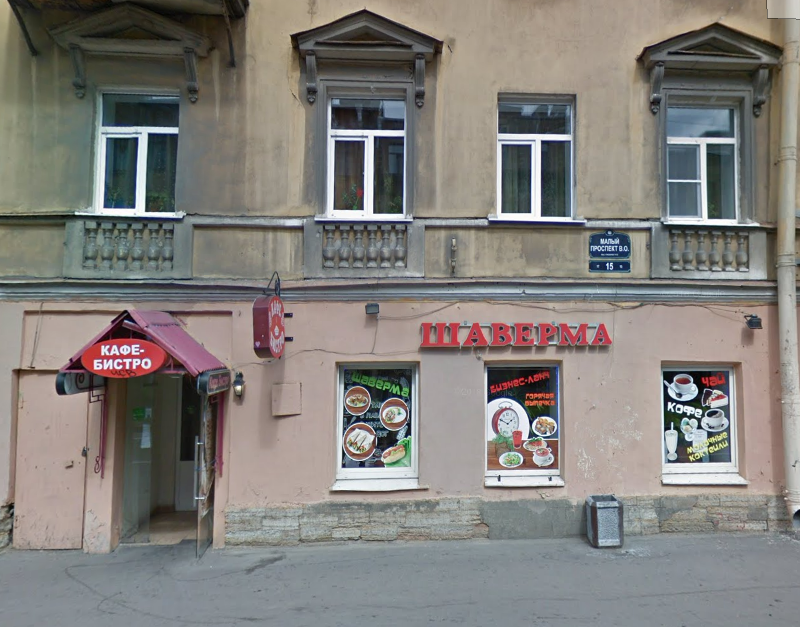cantilever: (239, 267, 298, 362)
door: (119, 378, 221, 551)
signboard: (419, 311, 615, 354), (85, 338, 172, 378)
win_ad: (488, 367, 560, 473), (660, 369, 732, 462), (343, 373, 411, 465)
window: (321, 96, 408, 223), (95, 94, 181, 222), (494, 96, 575, 222), (667, 96, 746, 220), (341, 362, 421, 478), (485, 362, 561, 479), (659, 365, 734, 475)
